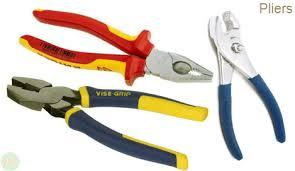pliers: (5, 75, 207, 170), (17, 6, 213, 86)
